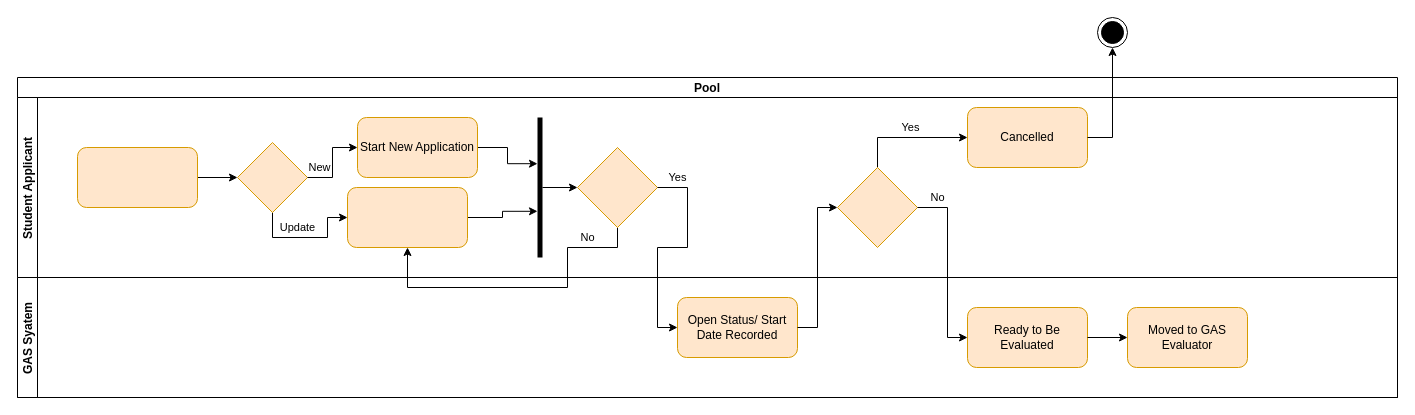
Image size: 1415x415. Some labels were removed from this diagram. Each missing label, with the centre of its shape:
"Application Selection Page" goes at (137,177).
"Cancel Application?" goes at (877,207).
"Record Additional Information" goes at (407,217).
"Save Application?" goes at (617,187).
